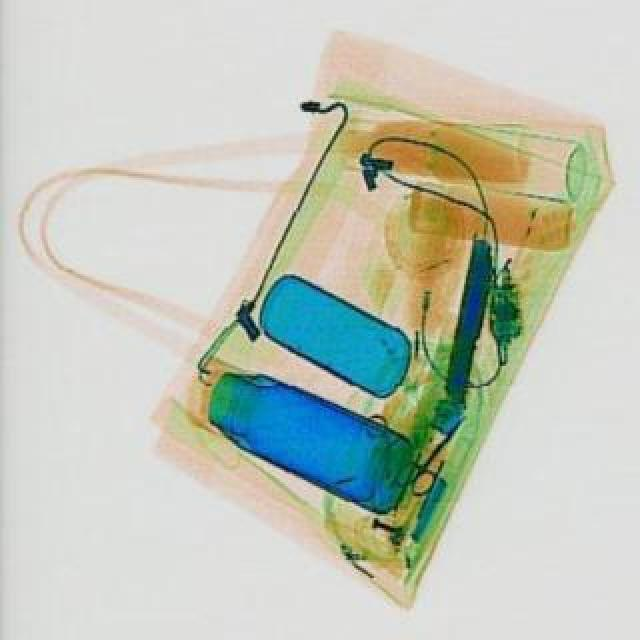pliers: (392, 406, 476, 496)
